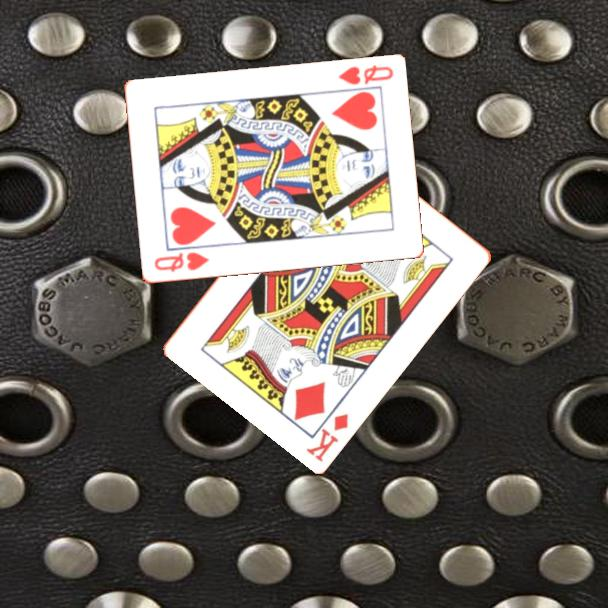d13: (303, 409, 351, 465)
h12: (150, 249, 212, 275), (334, 62, 396, 88)
